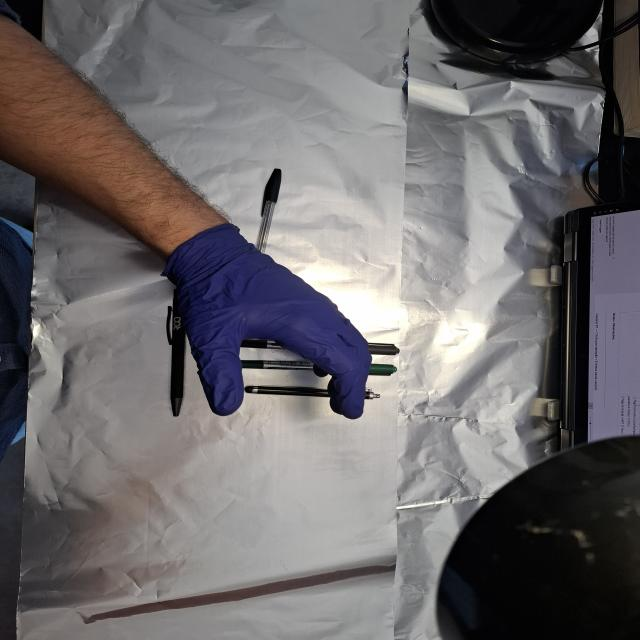glove_on: (158, 221, 373, 424)
